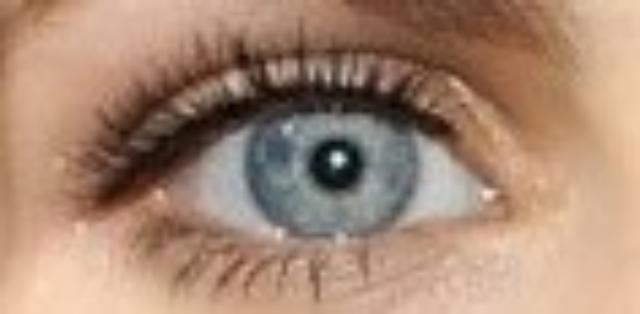eye: (243, 92, 412, 236)
